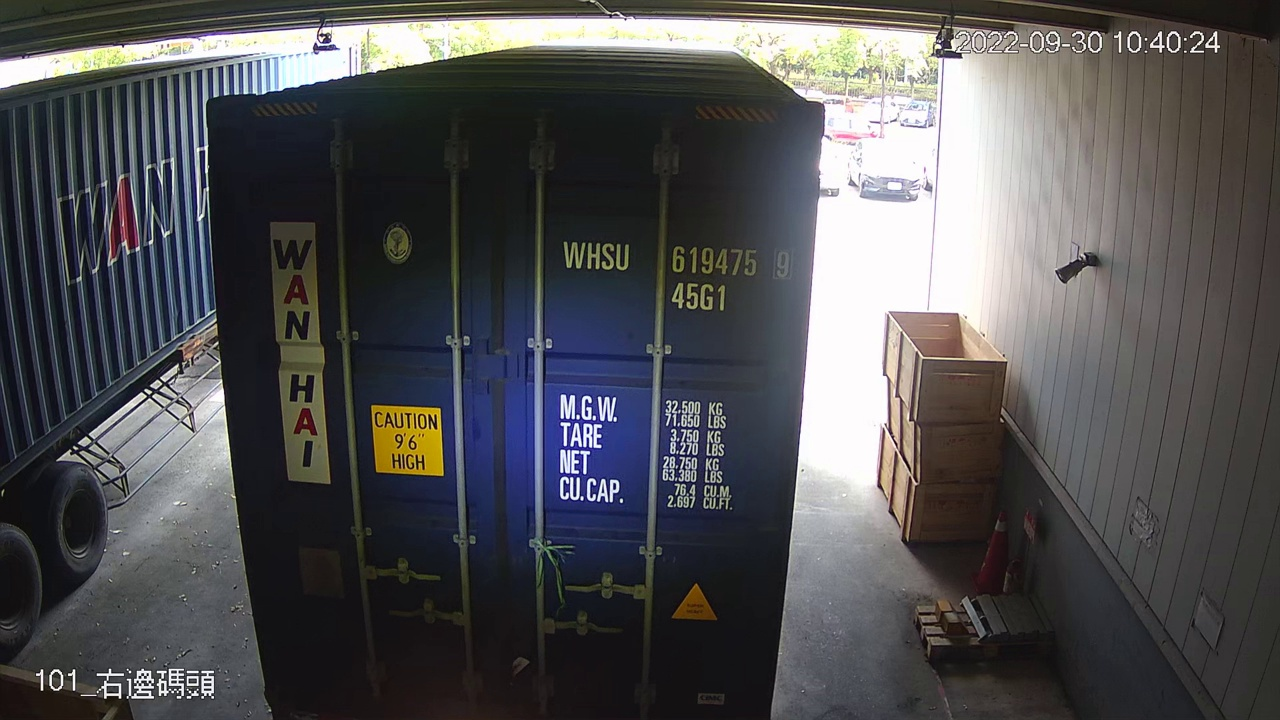container: (555, 229, 797, 321)
